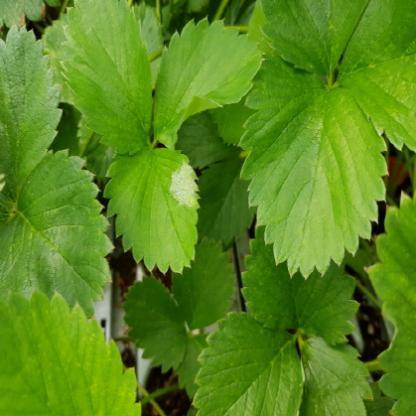Strawberry_Powdery_Mildew_Leaf: (103, 145, 201, 275)
